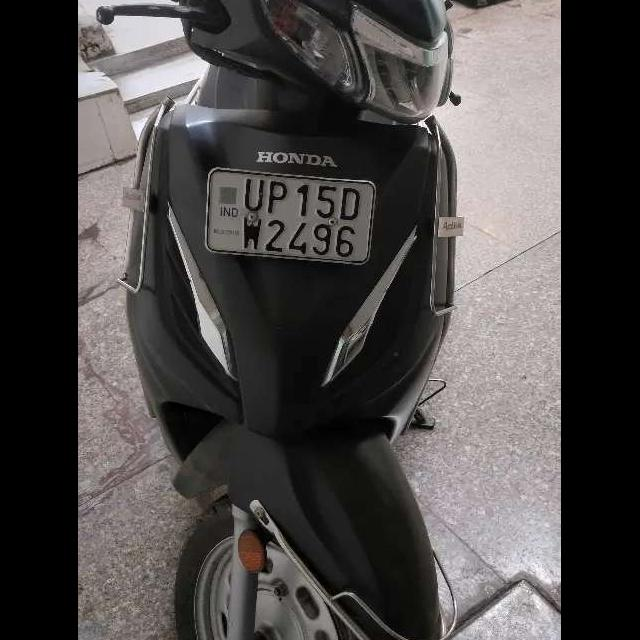Indian_Number_Plate: (209, 169, 374, 259)
